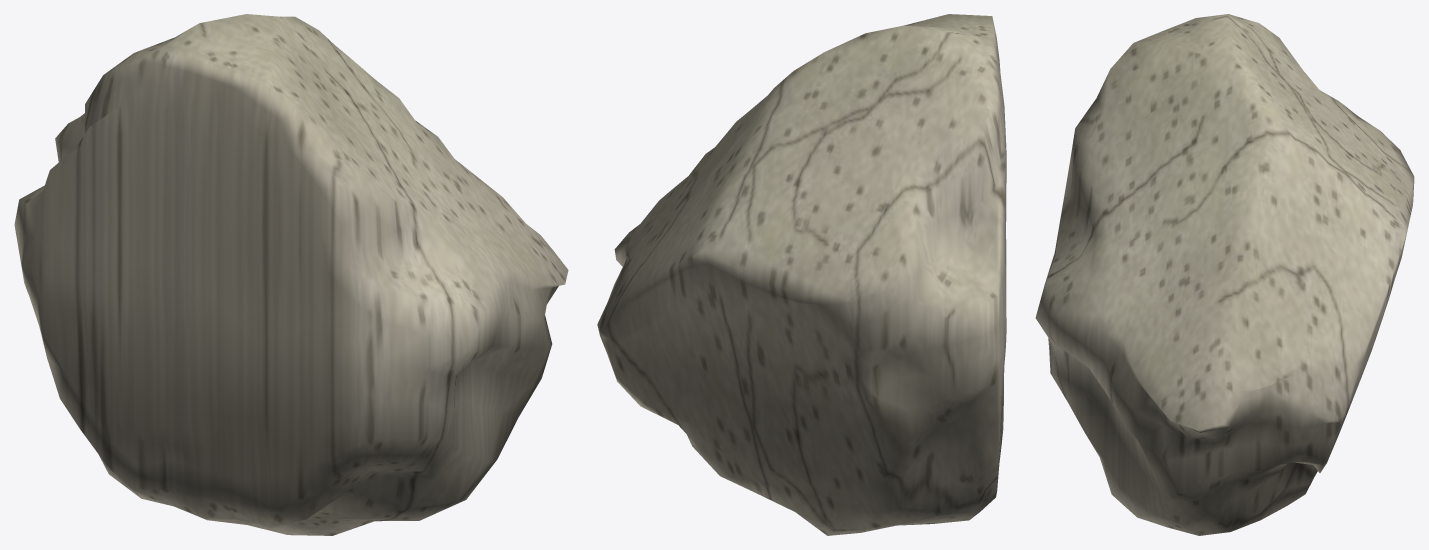
Rendered from rock-limestone-1.lite.glb.
The picture shows the model from 3 angles, left to right: view 1: azimuth 30°, elevation 25°; view 2: azimuth 150°, elevation 25°; view 3: azimuth 270°, elevation 25°; orthographic projection. The views are drawn at different scales.
Visible parts, largest first — view 1: model; view 2: model; view 3: model.
Part boxes in pixels (<box>): model: <box>14,14,568,535</box>; model: <box>597,14,1006,535</box>; model: <box>1035,14,1414,535</box>.
Bounding box in the file's own units: 1 × 1.1 × 0.8337.
1 material, 1 textured.
